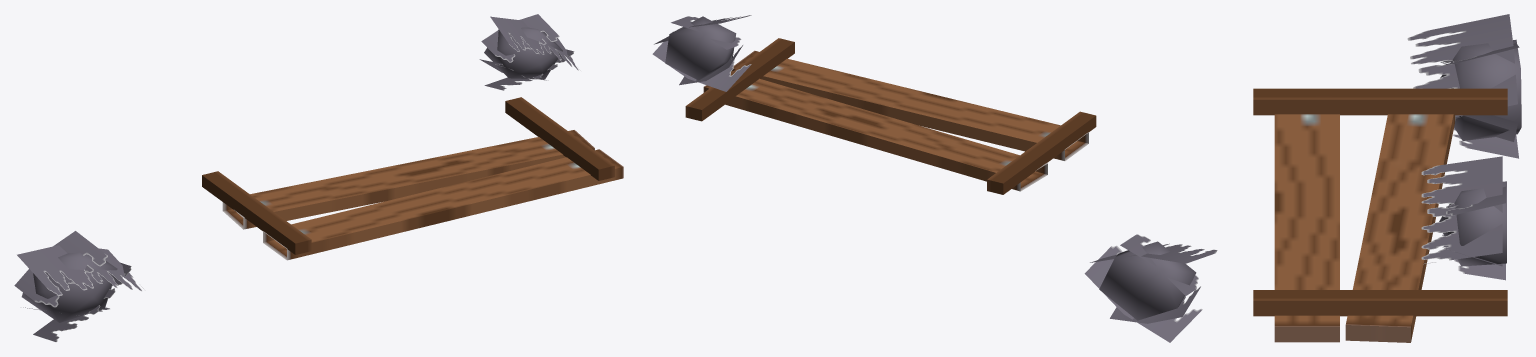
The model's file is valla 1.fbx.
The picture shows the model from 3 angles, left to right: view 1: azimuth 30°, elevation 25°; view 2: azimuth 150°, elevation 25°; view 3: azimuth 270°, elevation 25°; orthographic projection. The views are drawn at different scales.
Visible parts, largest first — view 1: vallita 1; view 2: vallita 1; view 3: vallita 1.
Boxes of the visible parts, x1,y1,x2,y2 form: vallita 1: [14, 14, 623, 341]; vallita 1: [652, 15, 1217, 342]; vallita 1: [1253, 14, 1521, 342].
Size of the model in its own units: 343 by 127 by 109.
